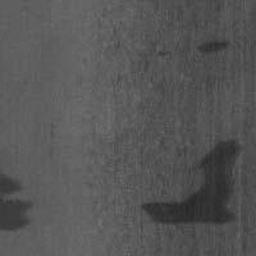Oil spot: (138, 136, 243, 228), (0, 163, 36, 233), (196, 36, 232, 56)
